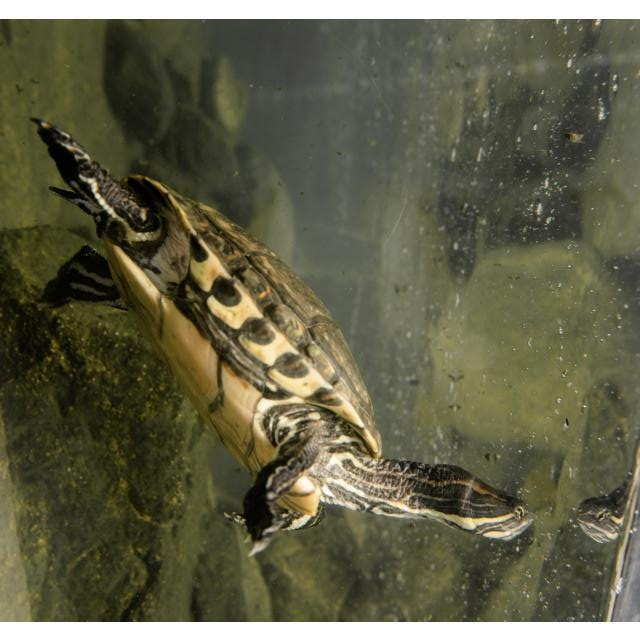turtle: (29, 117, 535, 558)
